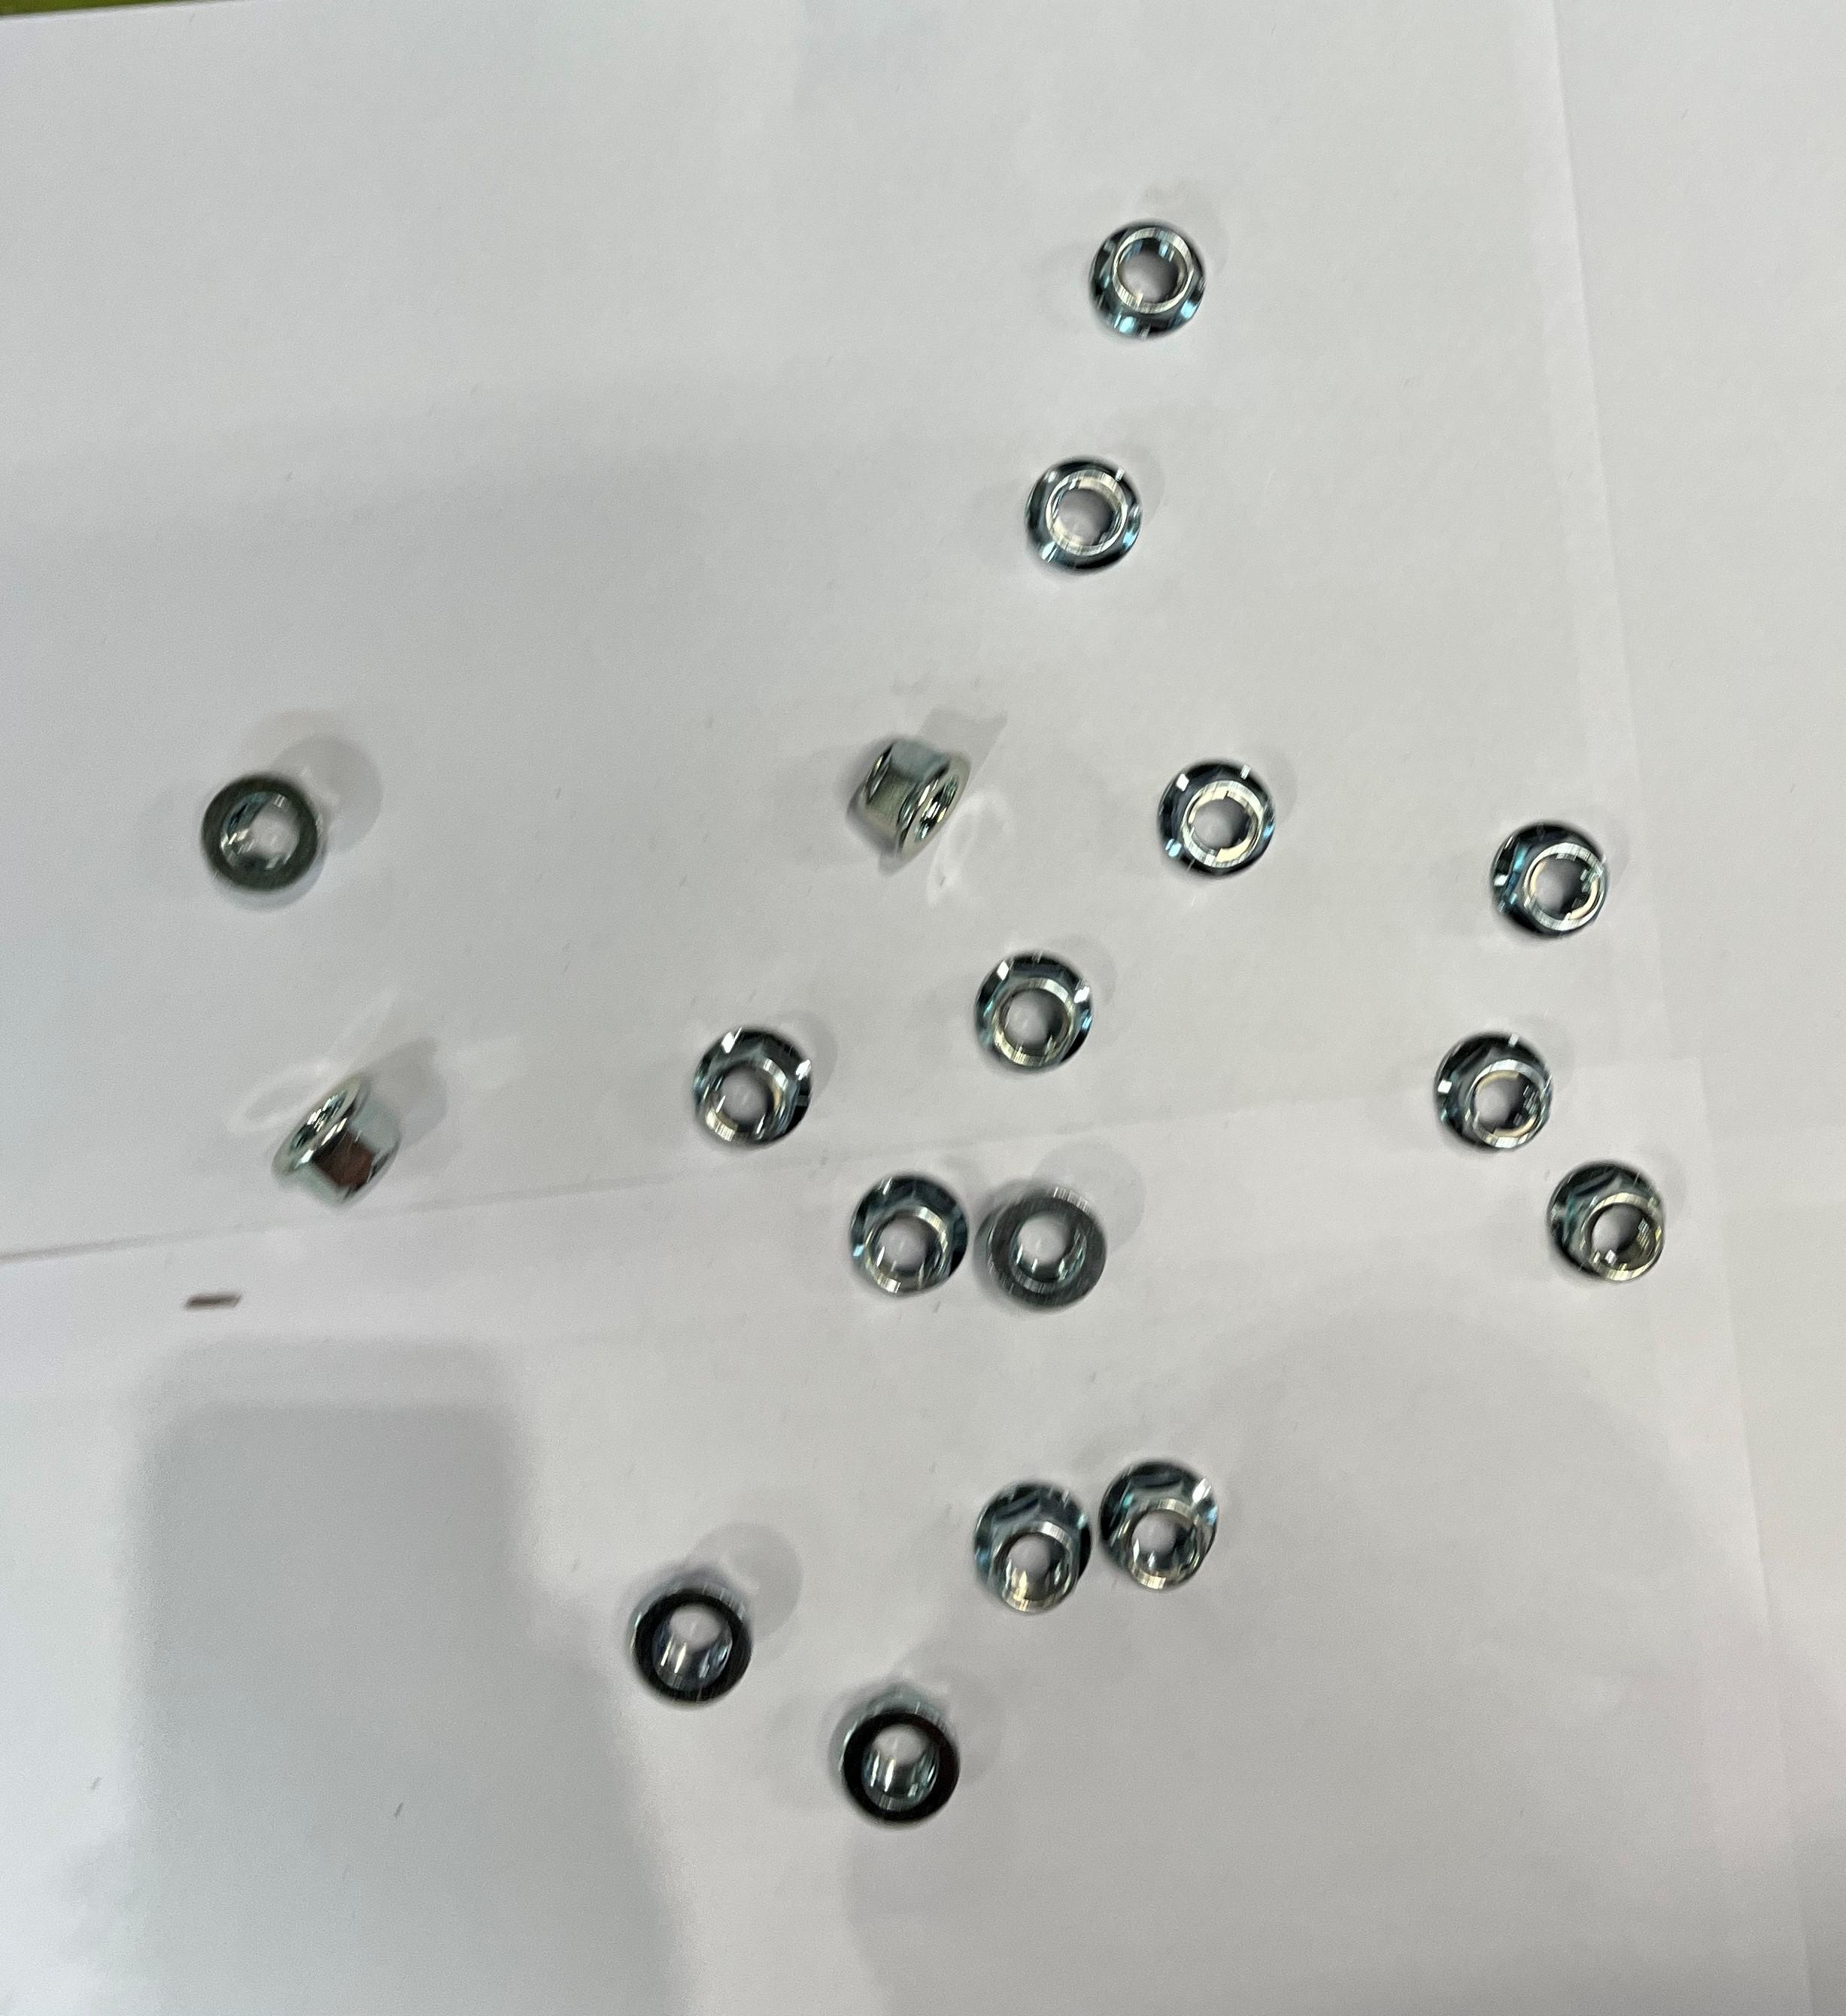Type B: (276, 1073, 407, 1210), (200, 771, 325, 915), (848, 736, 971, 866), (632, 1580, 755, 1710), (975, 1477, 1092, 1612), (694, 1024, 813, 1156), (845, 1695, 963, 1828), (1101, 1461, 1217, 1593), (1546, 1163, 1669, 1285), (1439, 1029, 1556, 1156), (1091, 218, 1207, 342), (978, 950, 1094, 1073), (1157, 759, 1273, 882), (1484, 825, 1607, 941), (850, 1175, 968, 1294), (1028, 453, 1140, 576), (992, 1191, 1105, 1312)
